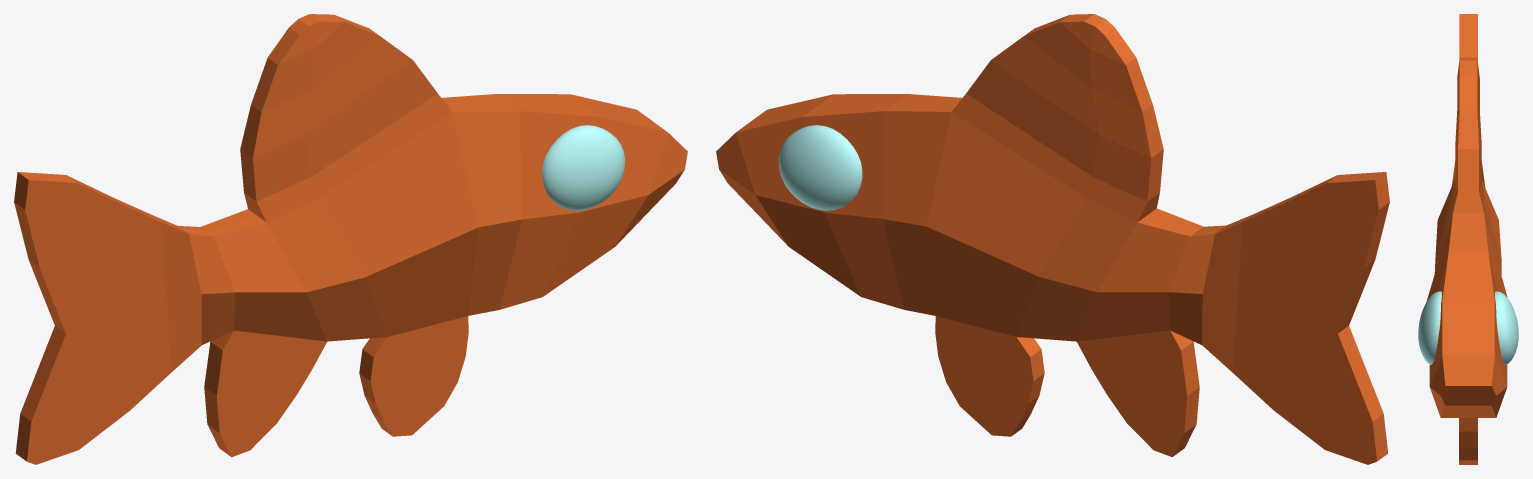
File: fish.fbx
3 views of the same model, side by side, from view 1: azimuth 30°, elevation 25°; view 2: azimuth 150°, elevation 25°; view 3: azimuth 270°, elevation 25° (orthographic). The views are drawn at different scales.
Visible parts, largest first — view 1: Plane, Plane.001, Plane.002, Sphere; view 2: Plane, Plane.001, Plane.002, Sphere; view 3: Plane, Plane.001, Sphere, Plane.002.
Part boxes in pixels (x1=…): Plane: x1=201, y1=94, x2=687, y2=341; Plane.001: x1=204, y1=14, x2=468, y2=457; Plane.002: x1=14, y1=172, x2=235, y2=464; Sphere: x1=542, y1=125, x2=625, y2=210; Plane: x1=716, y1=94, x2=1203, y2=341; Plane.001: x1=935, y1=14, x2=1199, y2=457; Plane.002: x1=1168, y1=172, x2=1389, y2=464; Sphere: x1=778, y1=125, x2=862, y2=210; Plane: x1=1426, y1=179, x2=1507, y2=417; Plane.001: x1=1452, y1=57, x2=1483, y2=464; Sphere: x1=1418, y1=291, x2=1518, y2=364; Plane.002: x1=1451, y1=14, x2=1485, y2=187.
Size of the model in its own units: 466 by 296 by 73.75.
